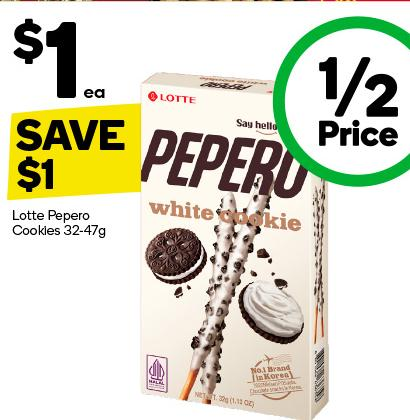description_block: (1, 202, 114, 240)
price_main: (5, 11, 119, 104)
product_image_block: (131, 57, 339, 420)
promo_text_block: (3, 107, 145, 201)
